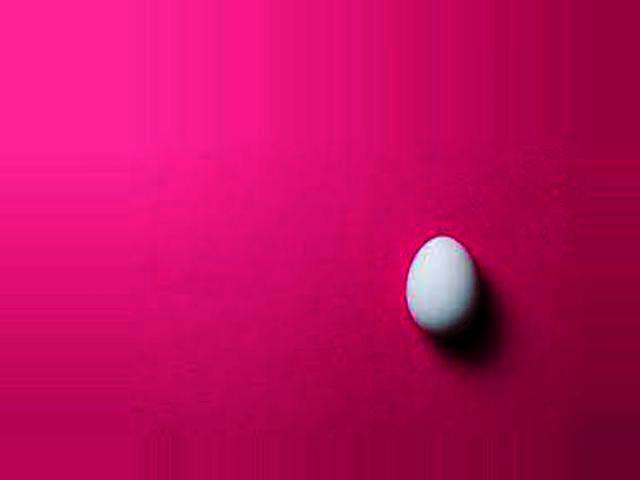egg: (405, 235, 479, 337)
